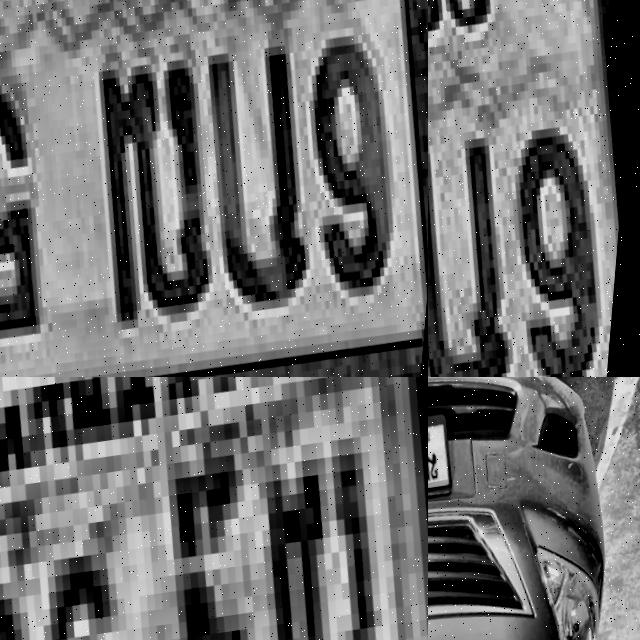license-plate: (0, 0, 428, 377), (0, 377, 428, 640), (428, 0, 640, 377), (428, 389, 465, 512)
